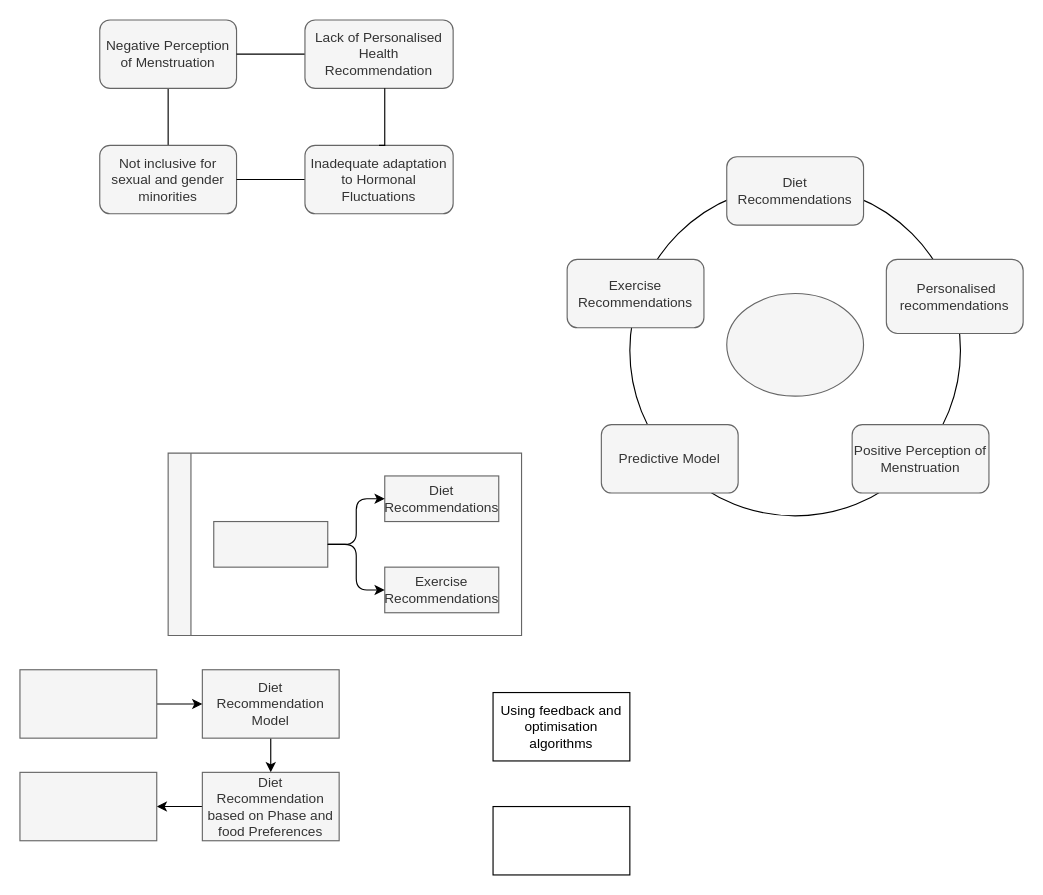
Image size: 1043x895. Some labels were removed from this diagram. The shapes that lost their labels are listed below. From the top down, each one's box as (x1, y1, x2, y2) in pixels, then its label:
(726, 292, 864, 396): Phase-Based Women's Health Recommendation System
(213, 520, 328, 567): Recommendation system
(167, 452, 522, 636): Recommendation Types
(19, 669, 157, 738): How many diet recommendations per day?
(19, 771, 157, 841): User feedback
